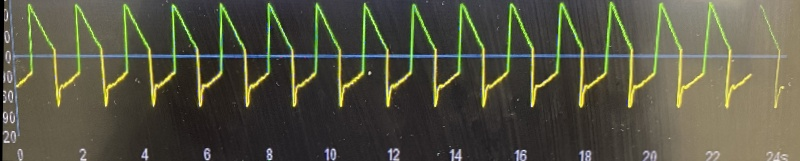peepi: (10, 0, 783, 113)
